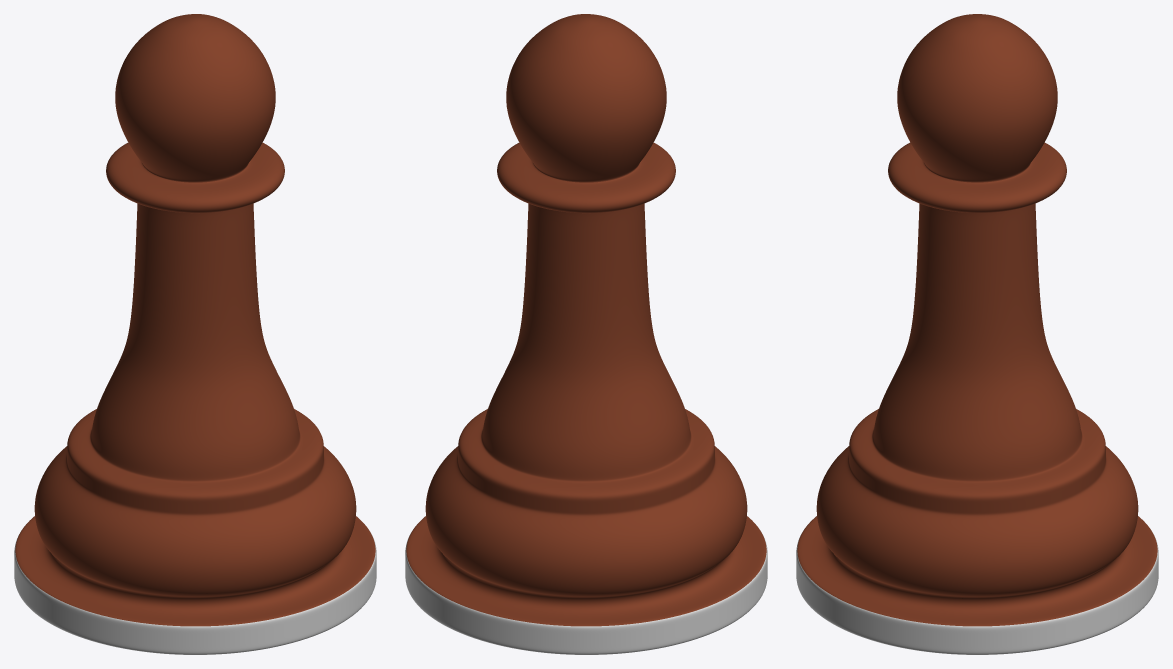
The model's file is chess.glb.
The picture shows the model from 3 angles, left to right: view 1: azimuth 30°, elevation 25°; view 2: azimuth 150°, elevation 25°; view 3: azimuth 270°, elevation 25°; orthographic projection.
Visible parts, largest first — view 1: Circle.004; view 2: Circle.004; view 3: Circle.004.
Boxes of the visible parts, x1,y1,x2,y2 form: Circle.004: (14, 14, 376, 654); Circle.004: (405, 14, 767, 654); Circle.004: (796, 14, 1158, 654).
Bounding box in the file's own units: 1.14 × 1.94 × 1.14.
